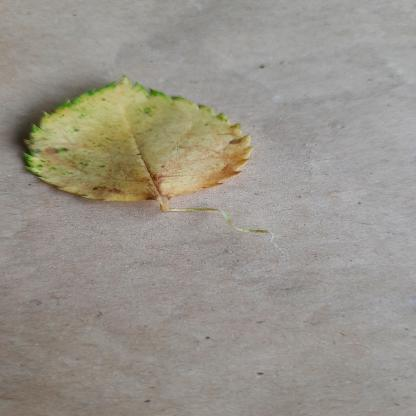black-spot: (21, 77, 275, 207)
